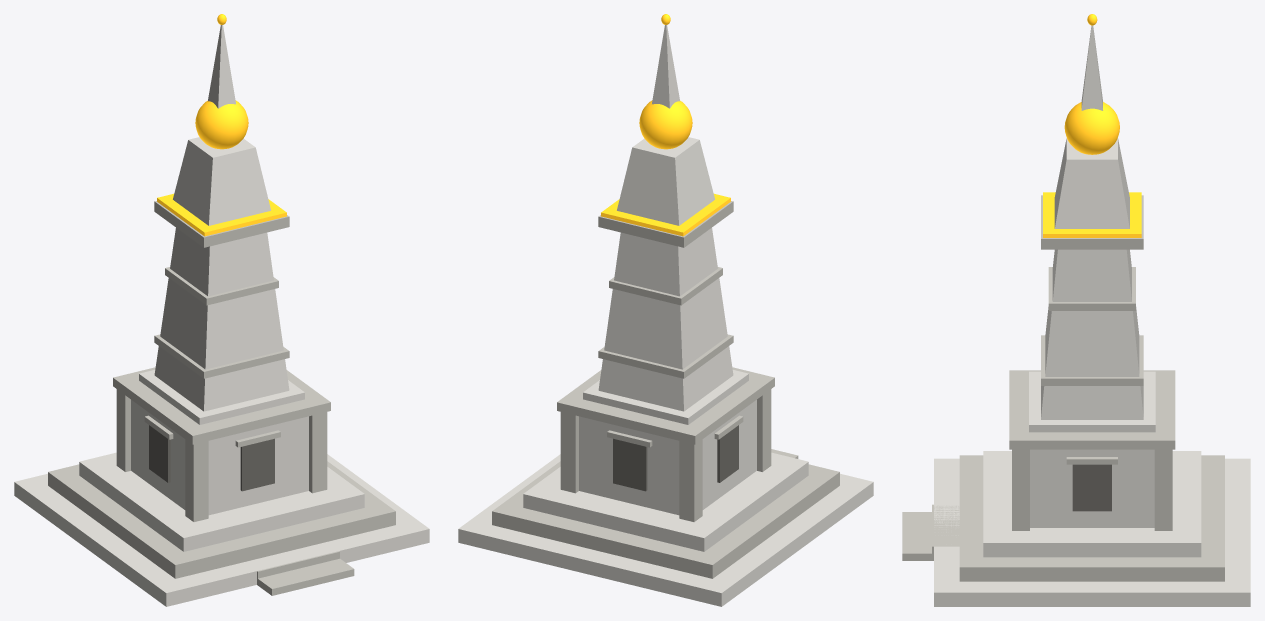
Rendered from tugu.glb.
3 renders of one model, left to right at view 1: azimuth 30°, elevation 25°; view 2: azimuth 150°, elevation 25°; view 3: azimuth 270°, elevation 25°, orthographic. The views are drawn at different scales.
Parts seen in each view (by area): view 1: Rig; view 2: Rig; view 3: Rig.
Boxes of the visible parts, x1,y1,x2,y2 form: Rig: [14, 14, 429, 606]; Rig: [458, 14, 873, 606]; Rig: [902, 14, 1250, 606].
Bounding box in the file's own units: 0.9829 × 1.8 × 1.08.
